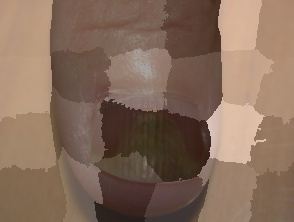Nail_psoriasis: (85, 104, 209, 188)
